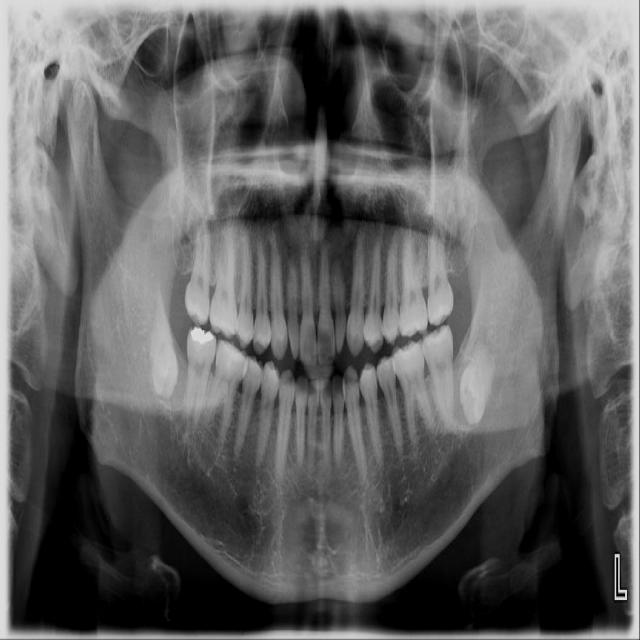Filling: (221, 343, 245, 372), (188, 325, 215, 344)
impacted tooth: (458, 335, 499, 426), (149, 283, 177, 395)
